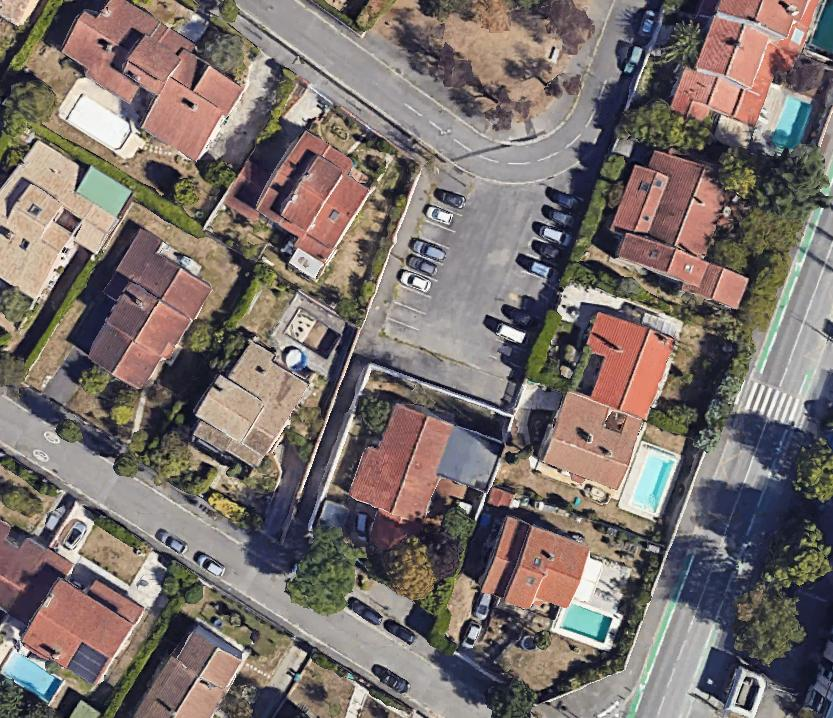maison: (47, 0, 250, 162), (598, 142, 778, 309), (212, 113, 381, 282), (67, 226, 220, 396), (325, 392, 475, 561), (0, 135, 132, 315), (669, 0, 819, 144), (183, 332, 316, 476), (17, 562, 144, 691), (477, 516, 593, 625), (130, 615, 250, 718), (569, 312, 677, 419), (536, 390, 644, 496), (0, 515, 73, 628)
